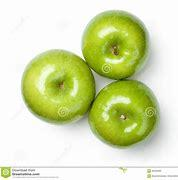apple: (78, 75, 167, 142), (19, 52, 98, 127), (80, 10, 151, 80)
